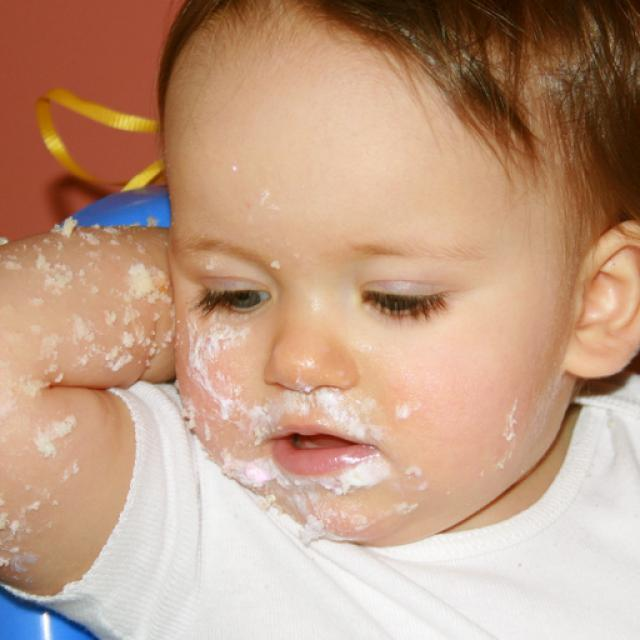neutral: (159, 0, 564, 544)
